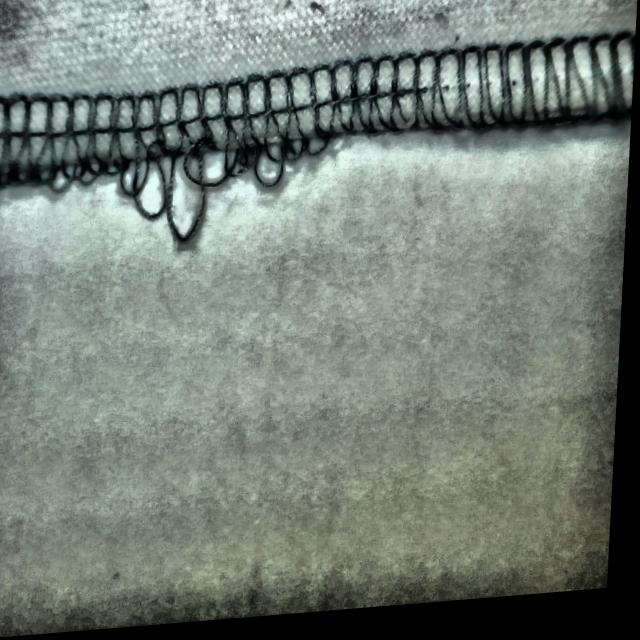Stitch: (50, 68, 335, 254)
